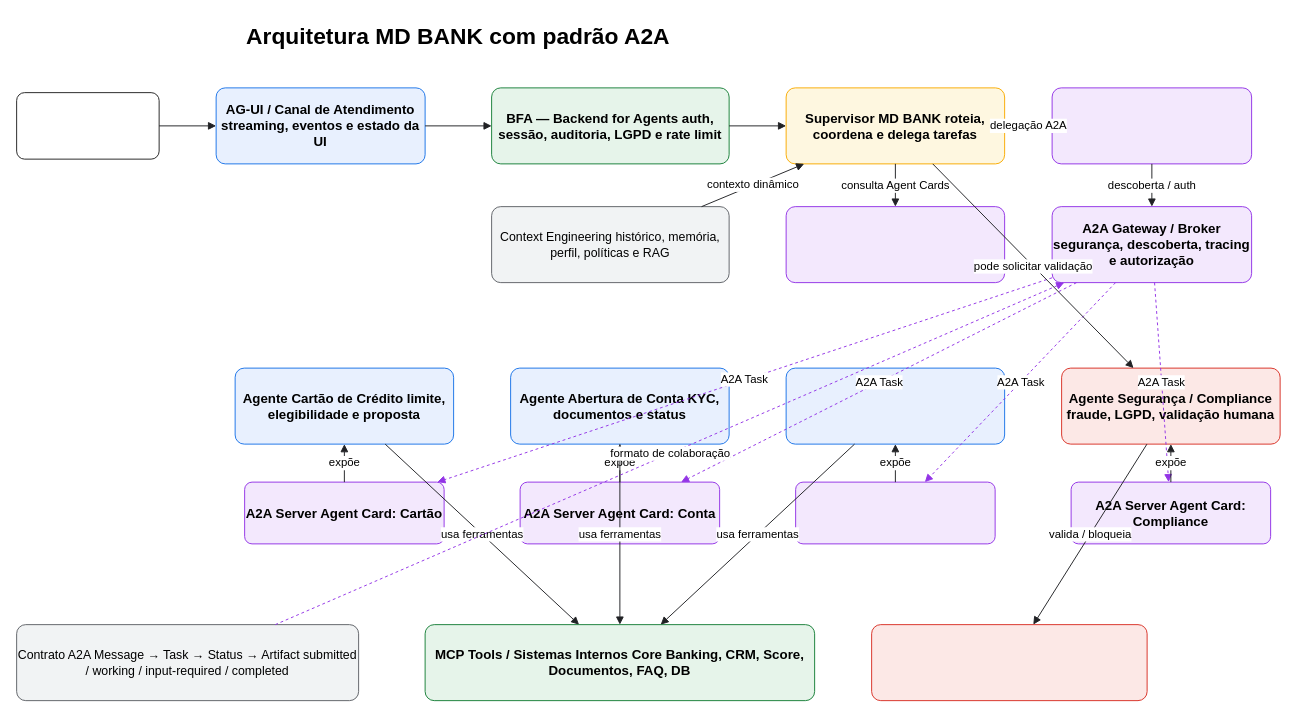
The diagram is 1297 pixels wide and 717 high, and some of its shapes have lost their labels. Each missing label, with the centre of its shape:
A2A Agent Registry Agent Cards + Skills + Endpoints: pixel 895 244
A2A Client no Supervisor cria Tasks e envia mensagens: pixel 1151 125
A2A Server Agent Card: Atendimento: pixel 895 512
Agente Atendimento ao Cliente FAQ, dúvidas gerais e triagem: pixel 895 405
Cliente / Usuário App, Web ou WhatsApp: pixel 87 125
Humano no Loop aprovação, exceção e atendimento assistido: pixel 1009 662
